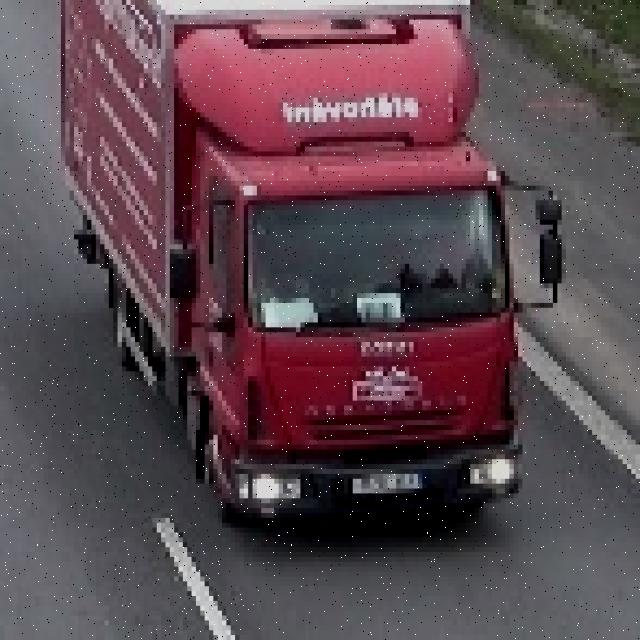truck: (56, 0, 562, 528)
